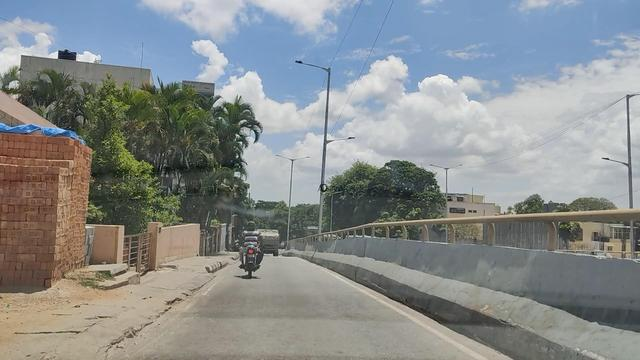LMV: (239, 221, 264, 278)
RoadDamages: (98, 296, 195, 349)
